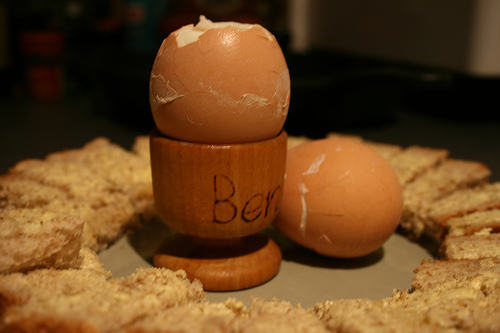egg: (152, 14, 292, 140), (276, 136, 406, 260)
